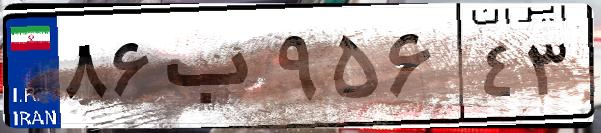3: (525, 38, 570, 115)
4: (475, 38, 525, 113)
5: (330, 28, 385, 110)
6: (385, 28, 445, 110), (110, 28, 158, 98)
8: (57, 26, 110, 100)
9: (270, 28, 330, 110)
ب: (158, 20, 270, 120)
